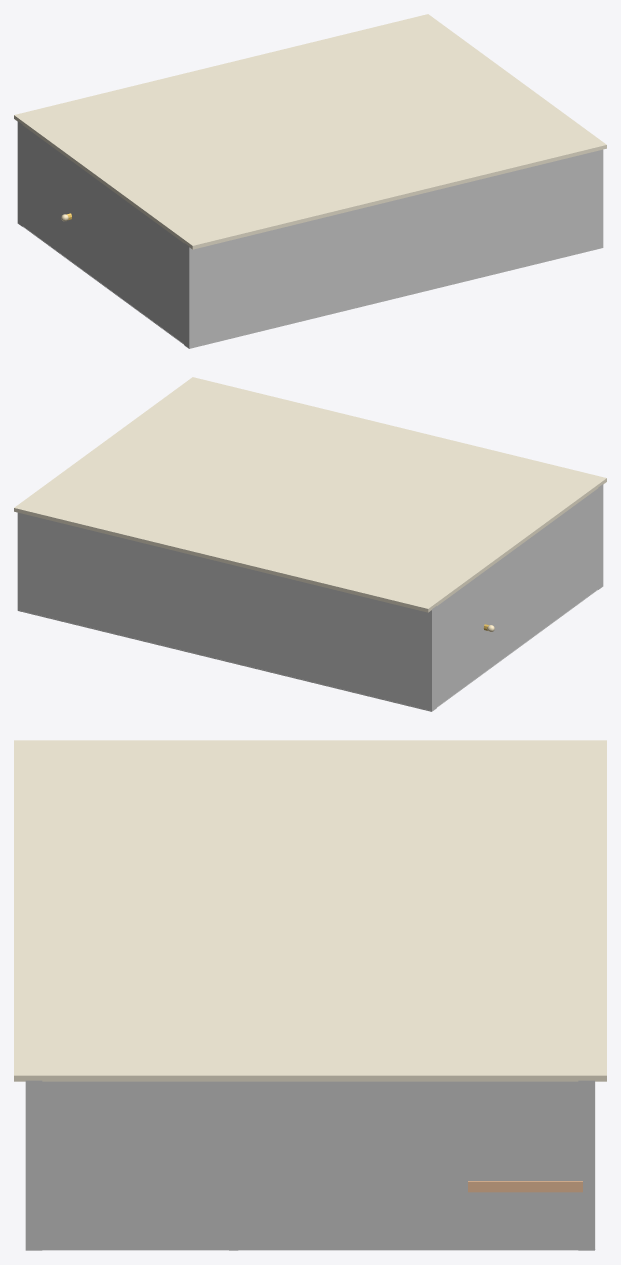
Rendered from toilet.fbx.
3 renders of one model, top to bottom at view 1: azimuth 30°, elevation 25°; view 2: azimuth 150°, elevation 25°; view 3: azimuth 270°, elevation 25°, orthographic. The views are drawn at different scales.
Parts seen in each view (by area): view 1: Tenzyo, Kabe.001, Floor; view 2: Tenzyo, Kabe.001, Floor; view 3: Tenzyo, Kabe.001, 立方体.023, Floor.
Part boxes in pixels (box(x1,y1,x2,y2)): Tenzyo: box(14, 14, 606, 249); Kabe.001: box(17, 121, 603, 348); Floor: box(22, 226, 603, 348); Tenzyo: box(14, 377, 606, 612); Kabe.001: box(17, 484, 603, 711); Floor: box(17, 589, 597, 711); Tenzyo: box(14, 740, 606, 1081); Kabe.001: box(25, 1080, 594, 1250); 立方体.023: box(468, 1181, 582, 1192); Floor: box(42, 1082, 595, 1249).
Size of the model in its own units: 22.54 by 5.37 by 16.45.
